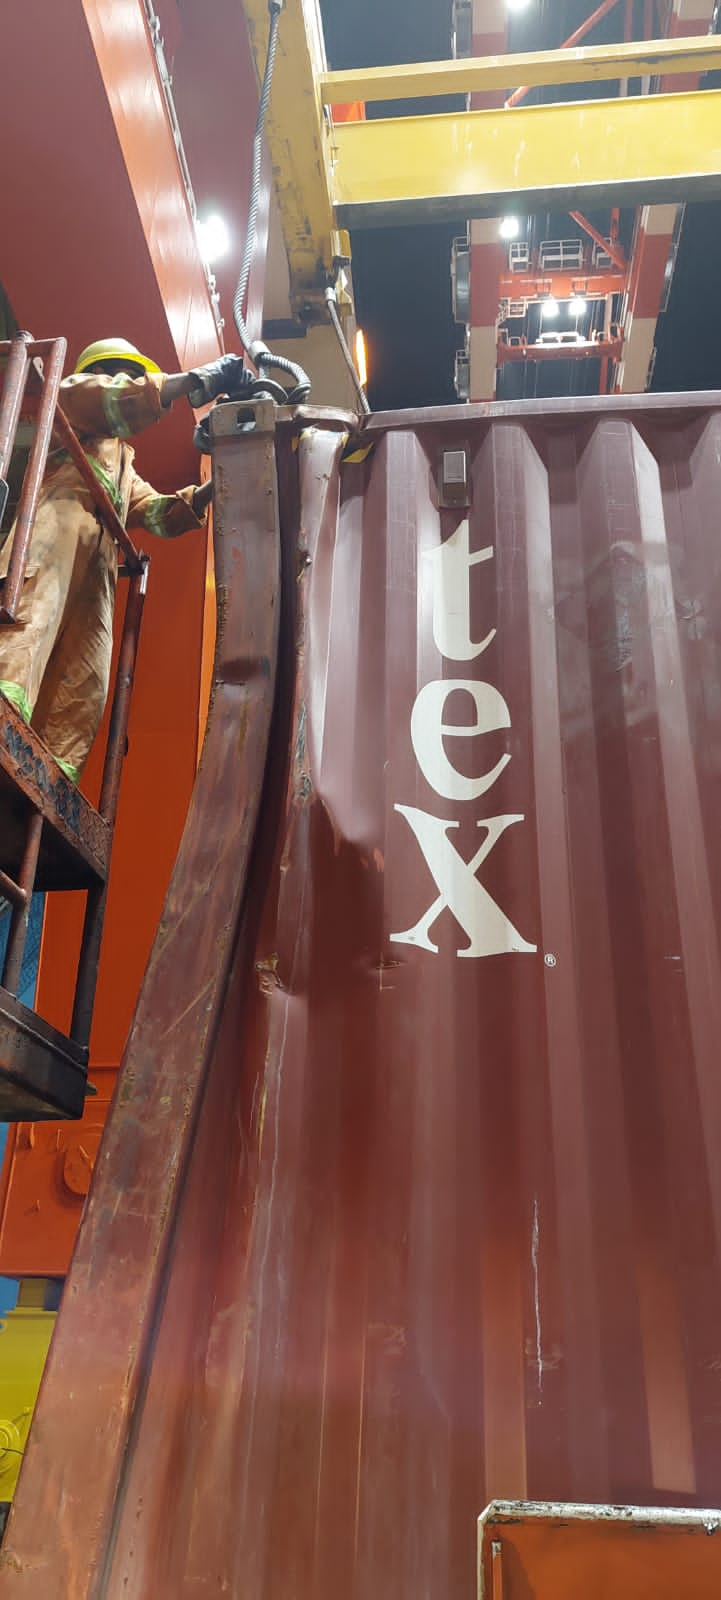bulged: (179, 402, 429, 1124)
